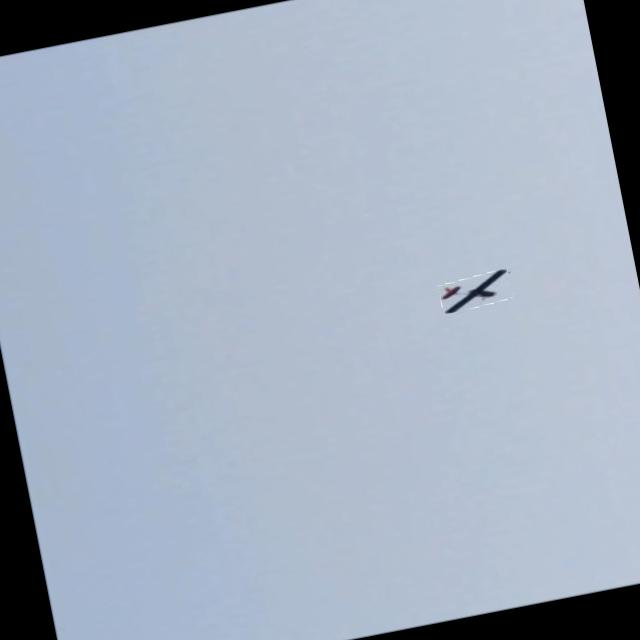UAV: (416, 229, 546, 325)
